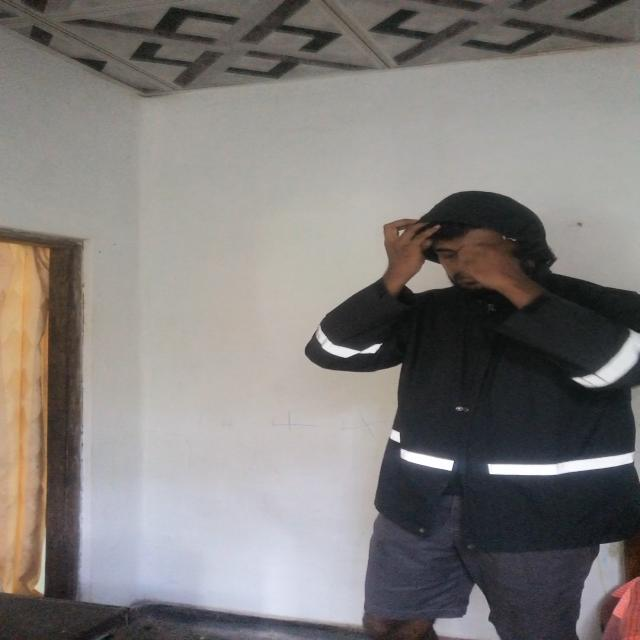Jacket_Wearer: (318, 184, 640, 519)
